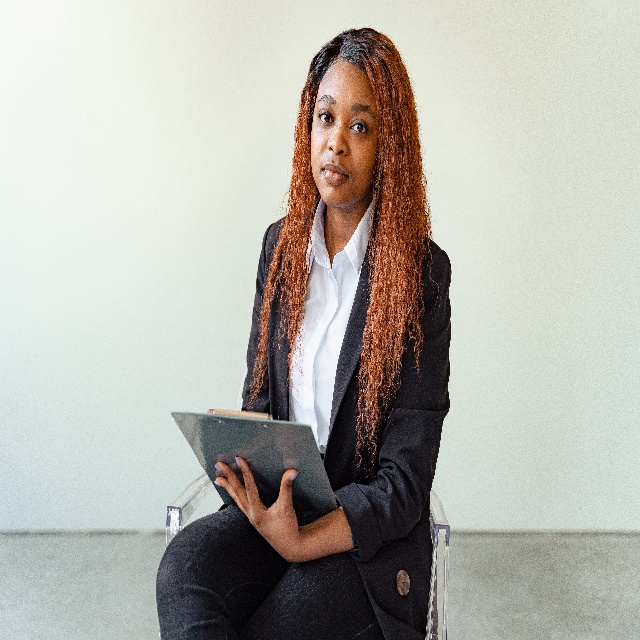Sin_guantes: (214, 454, 301, 562)
